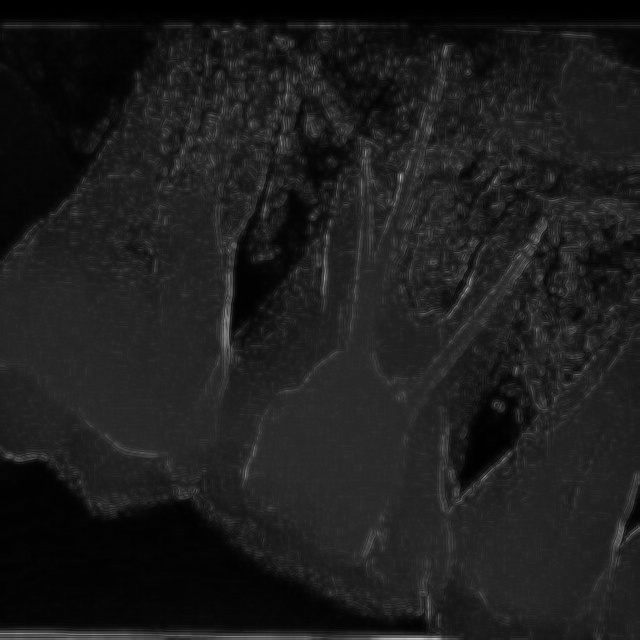Class 0- No endodontic treatment: (203, 34, 596, 628)
